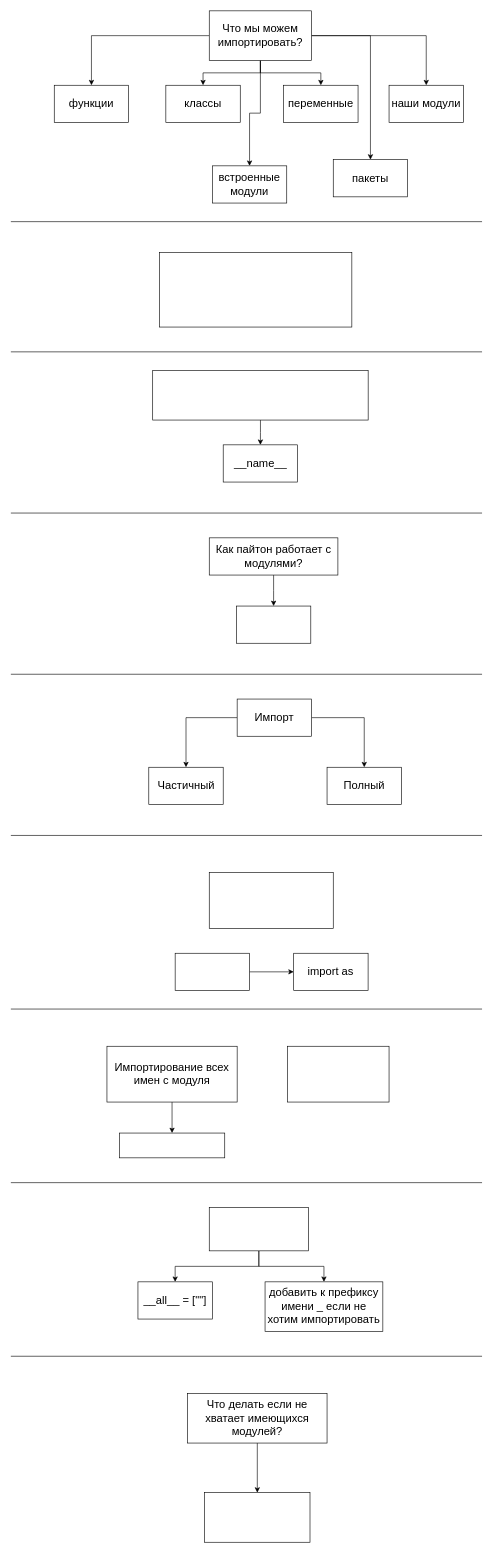
This 494x1553 diagram has some shape labels left out. The shapes that lost their labels are listed below. From the top down, each one's centre as x and y in pixels, then its label:
At (255,289): "Важно помнить что: при импорте модуля исполняется содержимое модуля".
At (260,395): "Что если мы не хотим исполнять модуль а просто импортировать его элементы?".
At (273,624): "sys.modules".
At (271,900): "Коллизия импортированных имен с локальными".
At (212,971): "Как избежать?".
At (338,1074): "Импортирование модуля".
At (172,1145): "не рекомендуется".
At (258,1229): "Контроль импортируемых имен через *".
At (257,1517): "https://pypi.org/".
